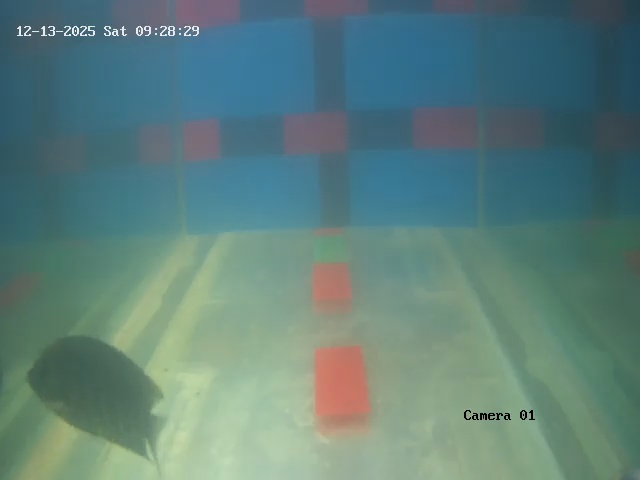fish: (24, 331, 156, 451)
